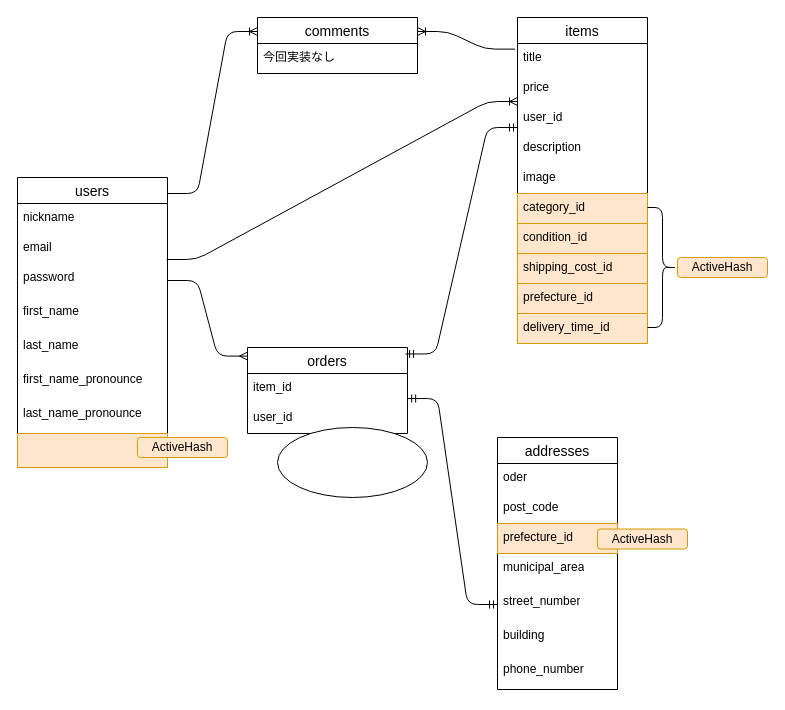
This 785x710 diagram has some shape labels left out. The centre of each missing label's shape, as x and y in pixels:
birth_date_id: [92,450]
クレカ決済はオープンAPI DBには保存しない: [352,462]
